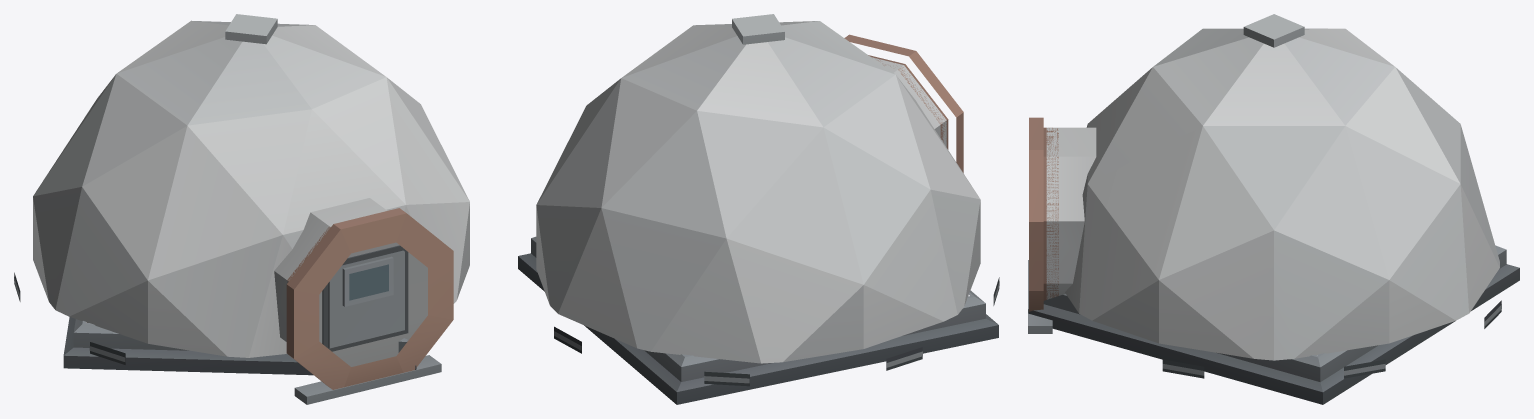
Rendered from dome.lod2.glb.
3 views of the same model, side by side, from view 1: azimuth 30°, elevation 25°; view 2: azimuth 150°, elevation 25°; view 3: azimuth 270°, elevation 25° (orthographic).
Bounding box in the file's own units: 11.99 × 7.38 × 11.99.
